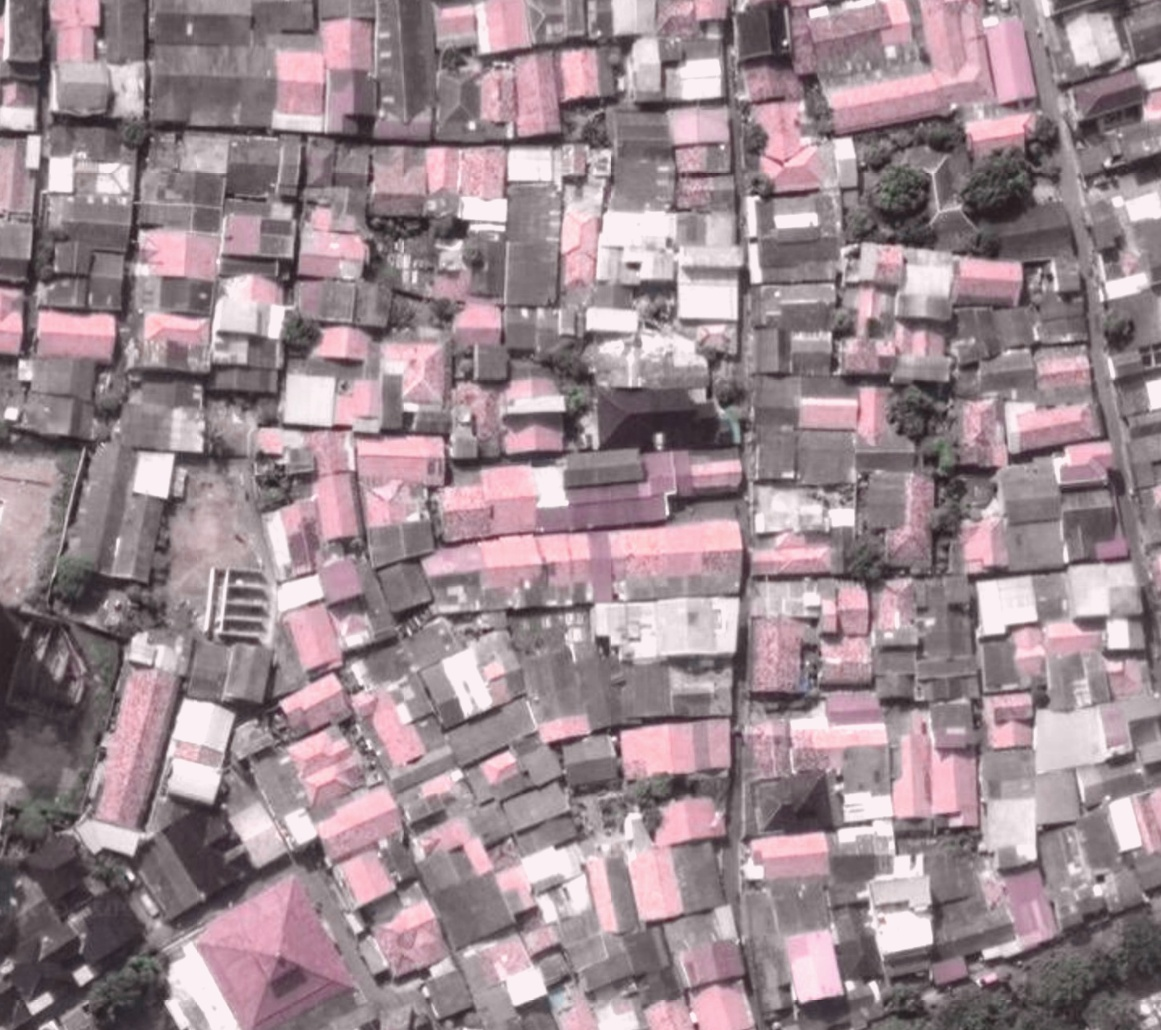building: (140, 869, 359, 1030), (420, 518, 745, 618), (786, 0, 996, 140), (734, 680, 897, 802), (583, 322, 720, 458), (62, 434, 177, 586), (85, 660, 185, 834), (121, 798, 255, 927), (149, 0, 275, 131), (1024, 806, 1148, 933), (550, 448, 679, 564), (739, 880, 843, 1019), (823, 58, 996, 138), (551, 889, 666, 1004), (827, 237, 913, 380), (590, 593, 743, 666), (923, 847, 1013, 964), (136, 129, 233, 236), (455, 926, 554, 1030), (863, 853, 941, 983), (623, 832, 727, 928), (460, 728, 568, 820), (430, 460, 545, 546), (1063, 87, 1161, 183), (157, 694, 239, 808), (910, 574, 980, 704), (0, 925, 95, 1020), (209, 767, 293, 874), (308, 779, 410, 866), (246, 747, 325, 859), (281, 720, 374, 814), (57, 883, 150, 974), (15, 831, 104, 926), (609, 658, 734, 725), (375, 0, 436, 136), (366, 896, 456, 986), (753, 193, 841, 285), (207, 295, 287, 395), (357, 471, 438, 569), (444, 632, 533, 720), (406, 810, 495, 897), (518, 647, 594, 748), (1038, 0, 1127, 86), (114, 389, 214, 465), (429, 868, 518, 953), (503, 184, 563, 309), (857, 471, 934, 568), (443, 695, 541, 771), (618, 717, 734, 781), (595, 204, 681, 289), (518, 838, 600, 927), (296, 187, 372, 282), (378, 339, 451, 434), (410, 651, 489, 736), (20, 355, 98, 441), (118, 380, 206, 456), (742, 768, 837, 837), (554, 176, 606, 300), (185, 639, 275, 709), (498, 366, 567, 457), (271, 670, 356, 743), (358, 688, 431, 773), (391, 763, 476, 835), (1004, 396, 1102, 457), (279, 597, 350, 681), (988, 199, 1075, 267), (261, 497, 331, 581), (919, 0, 987, 85), (622, 839, 687, 927), (980, 12, 1038, 108), (434, 71, 509, 145), (202, 566, 274, 643), (43, 192, 133, 253), (582, 849, 642, 940), (294, 276, 393, 331), (996, 868, 1060, 952), (746, 615, 810, 698), (1054, 486, 1122, 564), (0, 870, 57, 963), (658, 901, 740, 965), (220, 199, 299, 265), (133, 310, 213, 375), (752, 486, 856, 536), (134, 225, 222, 284), (748, 94, 816, 169), (676, 246, 742, 323), (825, 820, 900, 887), (504, 301, 589, 360), (1063, 560, 1140, 625), (643, 449, 743, 499), (780, 933, 843, 1012), (1117, 185, 1161, 297), (33, 309, 119, 365), (272, 47, 328, 133), (508, 51, 562, 140), (647, 791, 728, 850), (329, 845, 399, 913), (1063, 68, 1145, 126), (362, 511, 440, 571), (557, 730, 626, 797), (1033, 711, 1104, 776), (368, 144, 429, 219), (894, 248, 955, 323), (751, 283, 837, 336), (571, 650, 625, 734), (356, 436, 446, 486), (1092, 693, 1161, 758), (827, 910, 886, 986), (749, 531, 842, 579), (461, 932, 535, 991), (749, 831, 832, 883), (674, 934, 747, 993), (373, 555, 437, 622), (309, 470, 364, 547), (953, 396, 1009, 471), (398, 612, 465, 674), (500, 779, 574, 835), (519, 837, 589, 896), (979, 631, 1046, 692), (963, 108, 1040, 161), (607, 154, 675, 214), (994, 461, 1061, 521), (854, 466, 912, 535), (765, 142, 833, 200), (973, 577, 1037, 638), (914, 148, 967, 221), (731, 0, 792, 63), (928, 757, 979, 832), (951, 256, 1024, 308), (947, 303, 1004, 369), (339, 642, 411, 694), (216, 711, 278, 770), (561, 447, 646, 490), (1047, 655, 1110, 713), (973, 750, 1038, 806), (224, 136, 280, 200), (324, 69, 377, 136), (554, 44, 612, 105), (795, 430, 856, 488), (1002, 518, 1063, 576), (50, 61, 112, 118), (983, 805, 1036, 871), (279, 371, 338, 430), (924, 199, 983, 258), (1076, 759, 1145, 809), (475, 0, 536, 56), (452, 382, 500, 453), (1102, 294, 1160, 352), (132, 275, 214, 316), (1050, 442, 1120, 490), (662, 53, 726, 105), (742, 716, 793, 781), (331, 374, 386, 433), (619, 663, 673, 723), (872, 578, 917, 650), (889, 738, 928, 821), (737, 56, 803, 105), (49, 0, 100, 63), (749, 576, 822, 620), (421, 966, 476, 1024), (315, 551, 370, 609), (955, 515, 1009, 574), (310, 320, 375, 369), (123, 629, 188, 677), (45, 124, 127, 162), (1112, 787, 1159, 853), (844, 240, 907, 289), (690, 983, 755, 1030), (513, 814, 580, 859), (1033, 345, 1092, 396), (983, 693, 1035, 750), (4, 0, 45, 72), (492, 861, 541, 921), (0, 138, 37, 217), (319, 19, 374, 72), (1081, 199, 1129, 259), (927, 700, 979, 755), (610, 110, 672, 156), (586, 285, 643, 335), (102, 0, 147, 63), (622, 36, 664, 103), (329, 599, 379, 654), (85, 251, 128, 314), (462, 235, 505, 298), (820, 636, 873, 687), (979, 349, 1035, 397), (529, 0, 591, 43), (667, 105, 730, 147), (219, 269, 286, 308), (107, 60, 150, 120), (752, 426, 797, 482), (841, 746, 891, 796), (1035, 297, 1087, 345), (459, 146, 506, 199), (1026, 776, 1079, 823), (1121, 4, 1160, 67), (752, 377, 802, 426), (432, 0, 479, 52), (329, 142, 375, 194), (1041, 620, 1103, 658), (990, 304, 1039, 352), (476, 66, 515, 126), (73, 160, 134, 198), (271, 572, 326, 614), (634, 964, 684, 1010), (1123, 436, 1161, 496), (453, 301, 502, 347), (0, 217, 33, 284), (507, 146, 562, 186), (252, 0, 318, 33), (677, 212, 737, 248), (798, 396, 858, 432), (875, 650, 916, 702), (676, 175, 735, 211), (824, 690, 883, 726), (674, 142, 732, 178), (231, 130, 283, 170), (0, 80, 39, 133), (1106, 656, 1151, 701), (789, 330, 833, 375), (835, 582, 870, 637), (855, 443, 917, 474), (857, 386, 889, 446), (1031, 569, 1067, 622), (891, 354, 952, 385), (1114, 380, 1161, 420), (752, 326, 790, 374), (555, 987, 597, 1030), (0, 286, 25, 356), (426, 146, 460, 196), (533, 463, 569, 510), (303, 139, 336, 189), (831, 136, 861, 191), (595, 996, 643, 1030), (503, 393, 567, 418), (535, 949, 574, 990), (1046, 254, 1083, 297), (611, 0, 655, 36), (643, 999, 693, 1030), (655, 0, 698, 36), (52, 239, 92, 277), (41, 278, 87, 310), (1102, 621, 1145, 653), (472, 345, 508, 383), (426, 268, 466, 302), (346, 683, 380, 721), (45, 154, 76, 194), (928, 959, 968, 990), (1105, 348, 1144, 378), (317, 0, 375, 20), (560, 144, 589, 182), (586, 0, 613, 38), (0, 105, 36, 133), (1095, 535, 1128, 563), (773, 211, 818, 231), (658, 36, 685, 67), (588, 149, 612, 180), (493, 707, 512, 725), (537, 513, 558, 529), (508, 700, 525, 712)
tree: (947, 144, 1046, 235), (878, 378, 956, 452), (613, 756, 685, 829), (122, 581, 200, 639), (833, 526, 897, 593), (43, 551, 106, 616), (869, 159, 931, 223), (11, 787, 76, 848), (849, 120, 911, 179), (540, 332, 598, 392), (81, 844, 144, 898), (933, 480, 996, 534), (836, 198, 891, 254), (271, 306, 326, 360), (918, 434, 966, 486), (1118, 913, 1160, 972), (1021, 112, 1068, 163), (892, 210, 942, 257), (556, 380, 601, 424), (115, 112, 157, 154), (930, 829, 982, 861), (256, 473, 296, 513), (917, 121, 965, 154), (571, 110, 611, 149), (427, 213, 466, 247), (198, 416, 231, 456), (1101, 309, 1135, 346), (92, 384, 124, 423), (1030, 150, 1065, 184), (712, 375, 746, 409), (832, 306, 856, 333), (747, 172, 774, 196)
